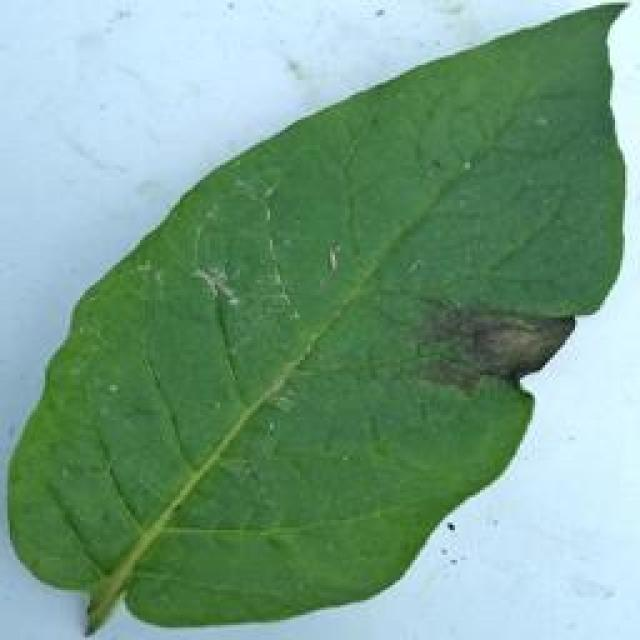Potato_Late_Blight: (12, 7, 622, 631)
